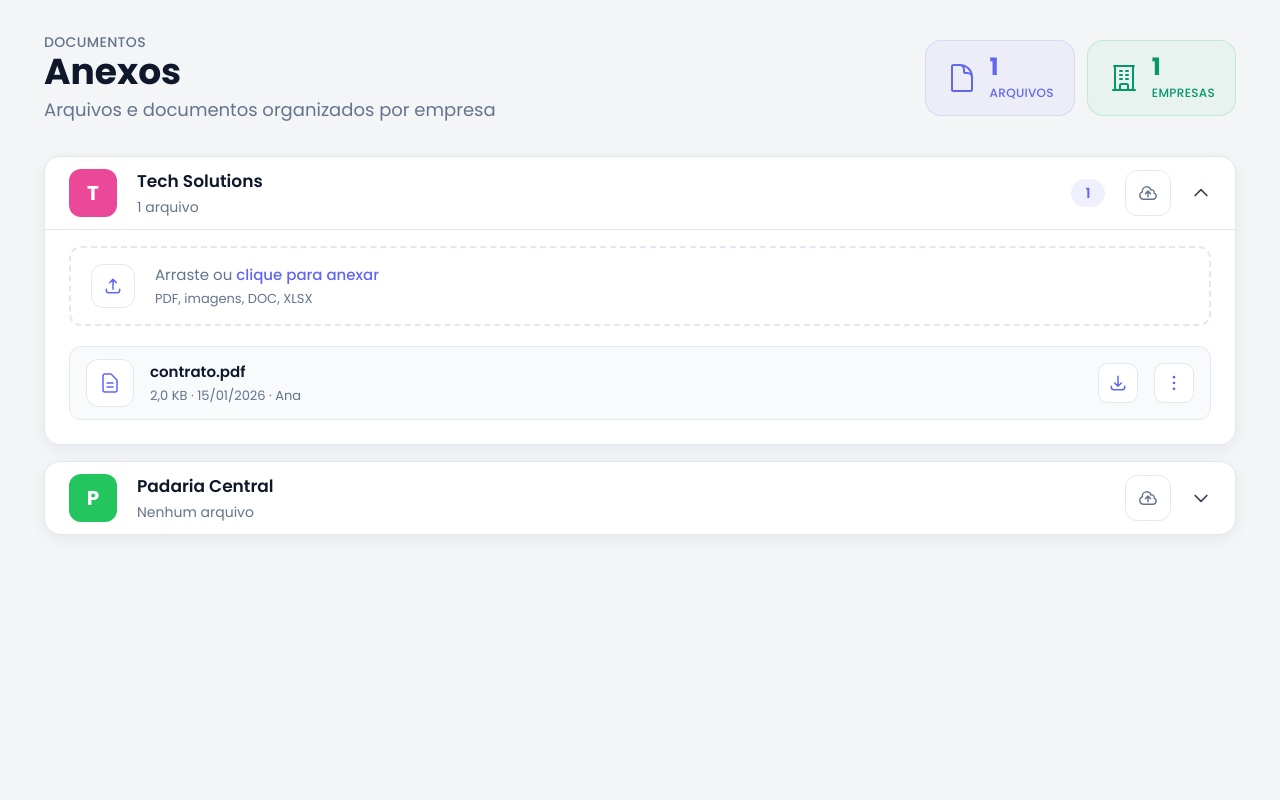
it: Anexos › abre a primeira empresa por padrão e as demais ao clicar
Expected: the text "contrato.pdf" is shown, [150,361,245,382]
Expected: the text "Nenhum arquivo anexado ainda" is not shown
Step 1. Click the button named "Abrir anexos de Padaria Central" → (640, 498), box [45,462,1235,534]
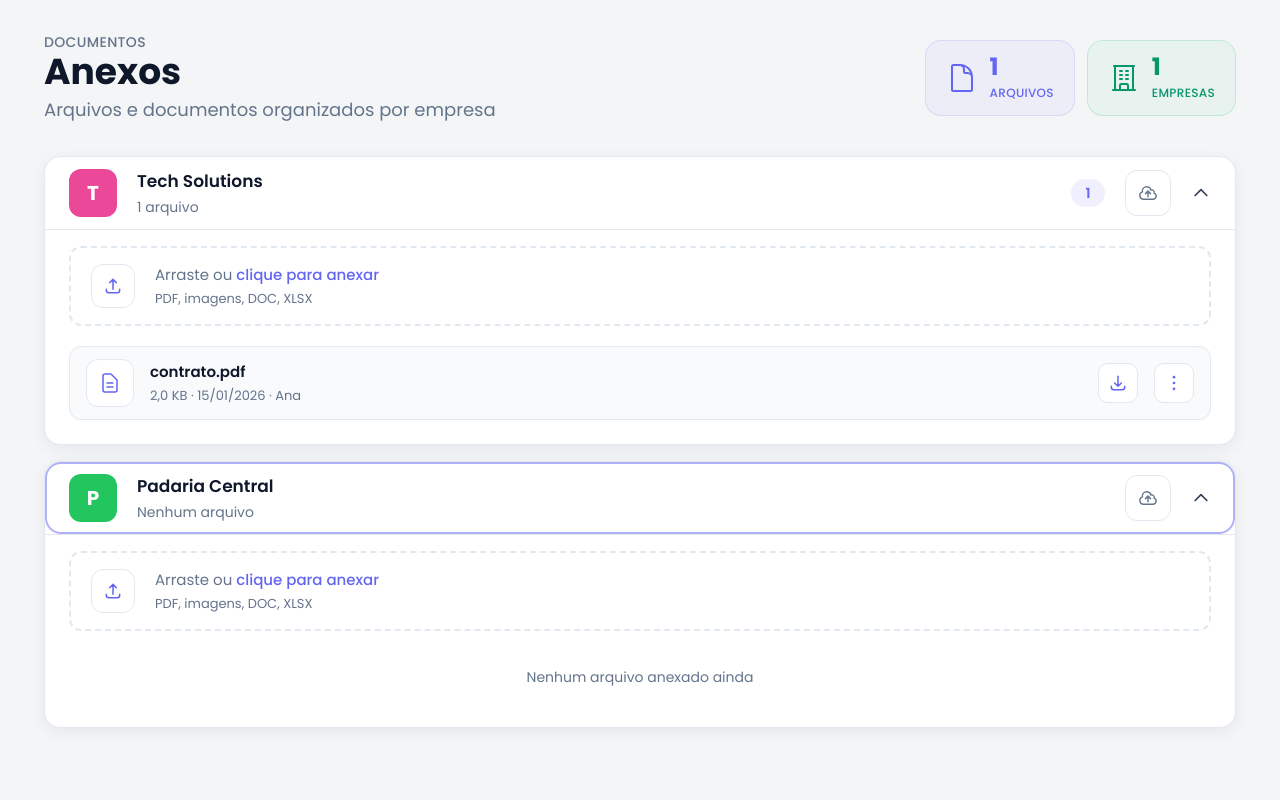
Now the text "Nenhum arquivo anexado ainda" is shown, box [526,667,753,687]
